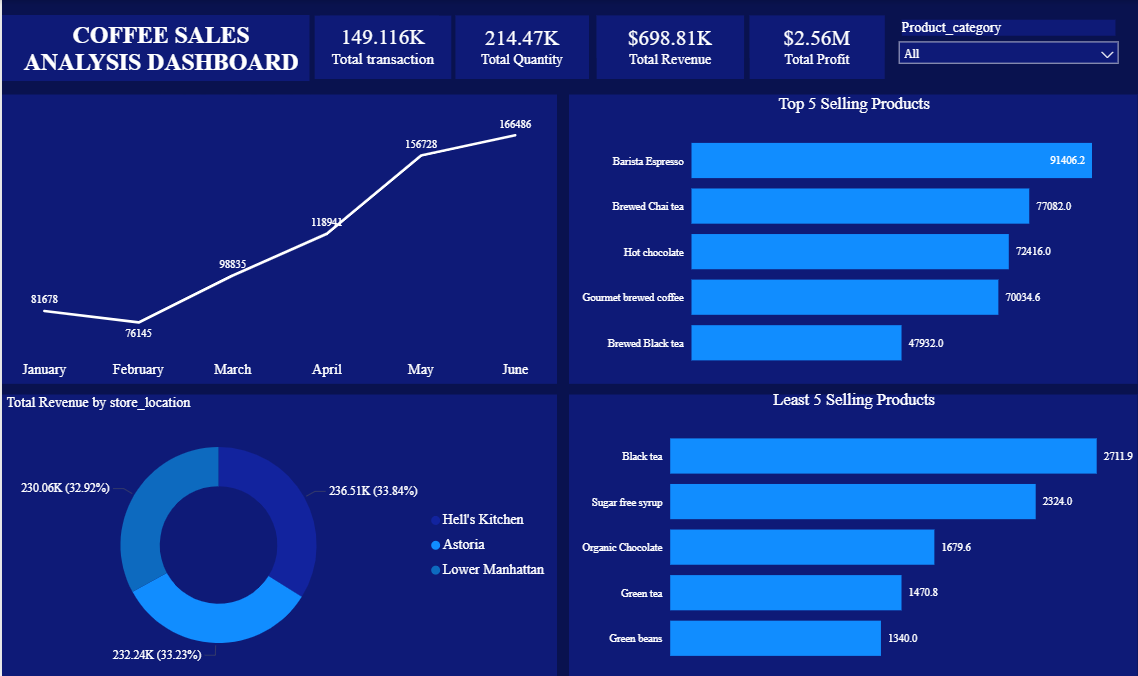

The page's visual inventory and layout, read from the dashboard file:
{"tool":"powerbi","page":{"name":"Dashboard","canvas":[1280,765],"ordinal":0},"visuals":[{"type":"shape","box":[0,16.9,346.5,74.4],"z":0},{"type":"shape","box":[0,106.5,625.3,326.2],"z":1000},{"type":"shape","box":[0,444.5,625.3,321.1],"z":2000},{"type":"shape","box":[638.8,106.5,640.5,326.2],"z":3000},{"type":"shape","box":[638.8,444.5,640.5,321.1],"z":4000},{"type":"textbox","box":[0,0,358.3,91.3],"z":5000},{"type":"cardVisual","fields":{"Data":["Sales Data.Total transaction"]},"box":[334.6,0,189.3,106.5],"z":6000},{"type":"cardVisual","fields":{"Data":["Sales Data.Total Quantity"]},"box":[493.5,0,185.9,106.5],"z":7000},{"type":"cardVisual","fields":{"Data":["Sales Data.Total Revenue"]},"box":[652.3,0,201.1,106.5],"z":8000},{"type":"cardVisual","fields":{"Data":["Sales Data.Total Profit"]},"box":[824.7,0,187.6,106.5],"z":9000},{"type":"lineChart","fields":{"Category":["Sales Data.Month name in full"],"Y":["Sales Data.Total Revenue"]},"box":[0,106.5,625.3,326.2],"z":10000},{"type":"donutChart","fields":{"Category":["Sales Data.store_location"],"Y":["Sales Data.Total Revenue"]},"box":[0,444.5,625.3,321.1],"z":11000},{"type":"clusteredBarChart","title":"Top 5 Selling Products","fields":{"Category":["Sales Data.product_type"],"Y":["Sales Data.Total Revenue"]},"box":[640.5,106.5,638.8,326.2],"z":12000},{"type":"clusteredBarChart","title":"Least 5 Selling Products","fields":{"Category":["Sales Data.product_type"],"Y":["Sales Data.Total Revenue"]},"box":[640.5,439.4,638.8,326.2],"z":13000},{"type":"slicer","fields":{"Values":["Sales Data.product_category"]},"box":[1000.5,16.9,267,74.4],"z":14000}]}

Visuals, with their boxes in screenshot pixels (x1, y1, x2, y2), scaled from the page's 1280x765 canvas onto the 1138x676 screenshot:
shape: <bbox>0, 15, 308, 81</bbox>
shape: <bbox>0, 94, 556, 382</bbox>
shape: <bbox>0, 393, 556, 675</bbox>
shape: <bbox>568, 94, 1137, 382</bbox>
shape: <bbox>568, 393, 1137, 675</bbox>
textbox: <bbox>0, 0, 319, 81</bbox>
cardVisual - Sales Data.Total transaction: <bbox>297, 0, 466, 94</bbox>
cardVisual - Sales Data.Total Quantity: <bbox>439, 0, 604, 94</bbox>
cardVisual - Sales Data.Total Revenue: <bbox>580, 0, 759, 94</bbox>
cardVisual - Sales Data.Total Profit: <bbox>733, 0, 900, 94</bbox>
lineChart - Sales Data.Month name in full x Sales Data.Total Revenue: <bbox>0, 94, 556, 382</bbox>
donutChart - Sales Data.store_location x Sales Data.Total Revenue: <bbox>0, 393, 556, 675</bbox>
"Top 5 Selling Products" clusteredBarChart: <bbox>569, 94, 1137, 382</bbox>
"Least 5 Selling Products" clusteredBarChart: <bbox>569, 388, 1137, 675</bbox>
slicer - Sales Data.product_category: <bbox>890, 15, 1127, 81</bbox>
